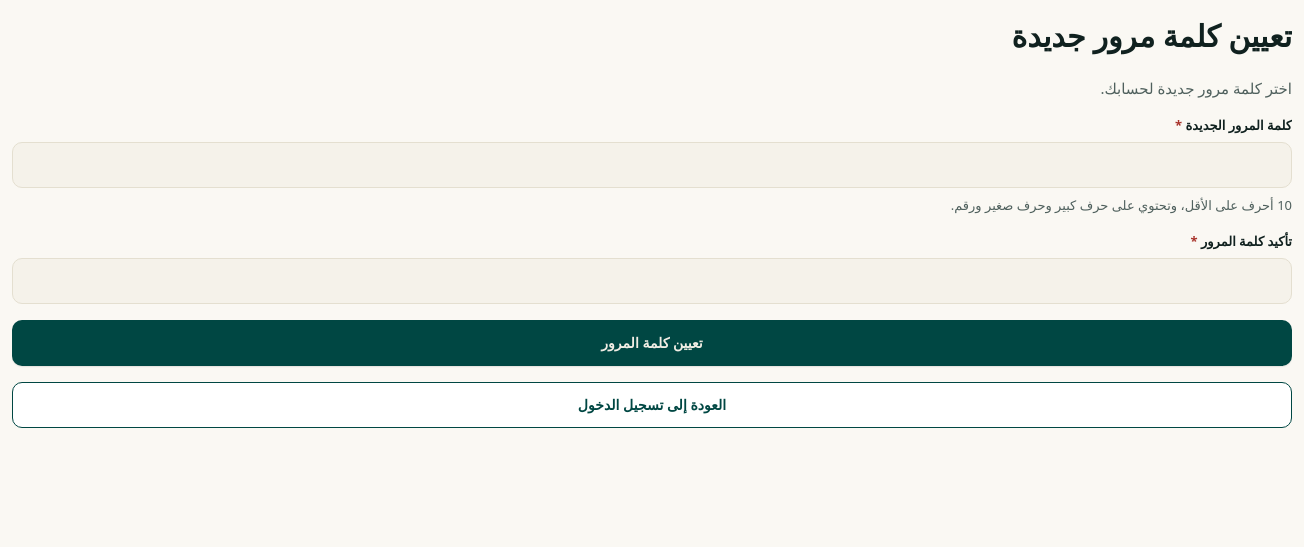
Test: ResetPasswordForm › maps a 400 invalid token to the Arabic message with a link to request a new one
Expected: the heading "تعيين كلمة مرور جديدة" is shown, [1012,15,1292,56]
In the password field labelled "كلمة المرور الجديدة *": point(652, 165) [12,142,1292,188], type "Abcdefgh1x"
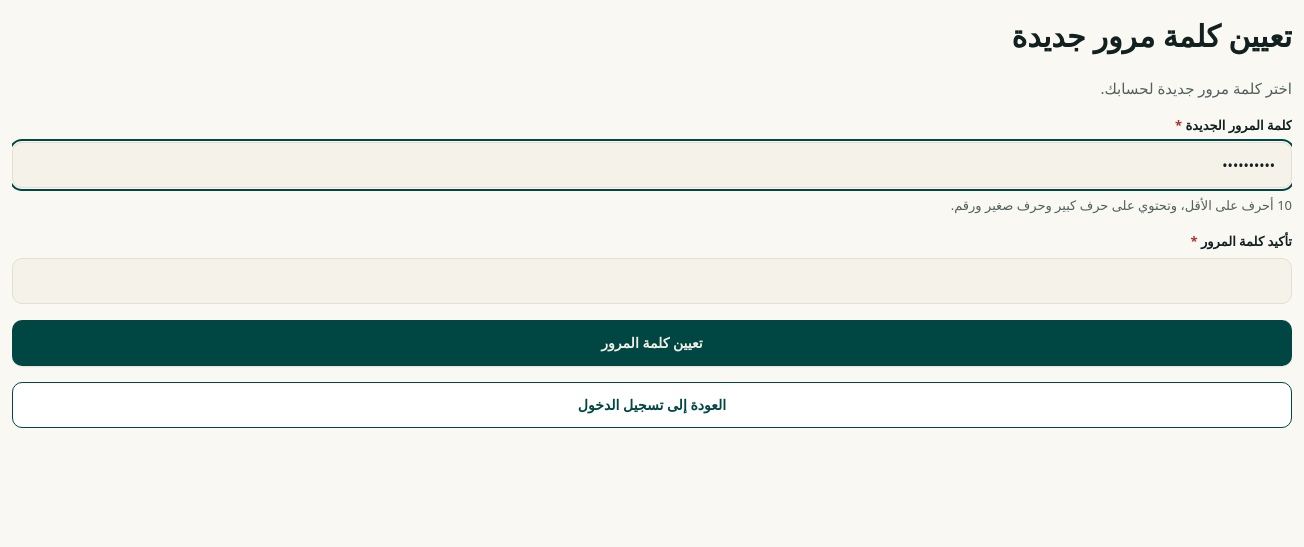
In the password field labelled "تأكيد كلمة المرور *": point(652, 281) [12,258,1292,304], type "Abcdefgh1x"
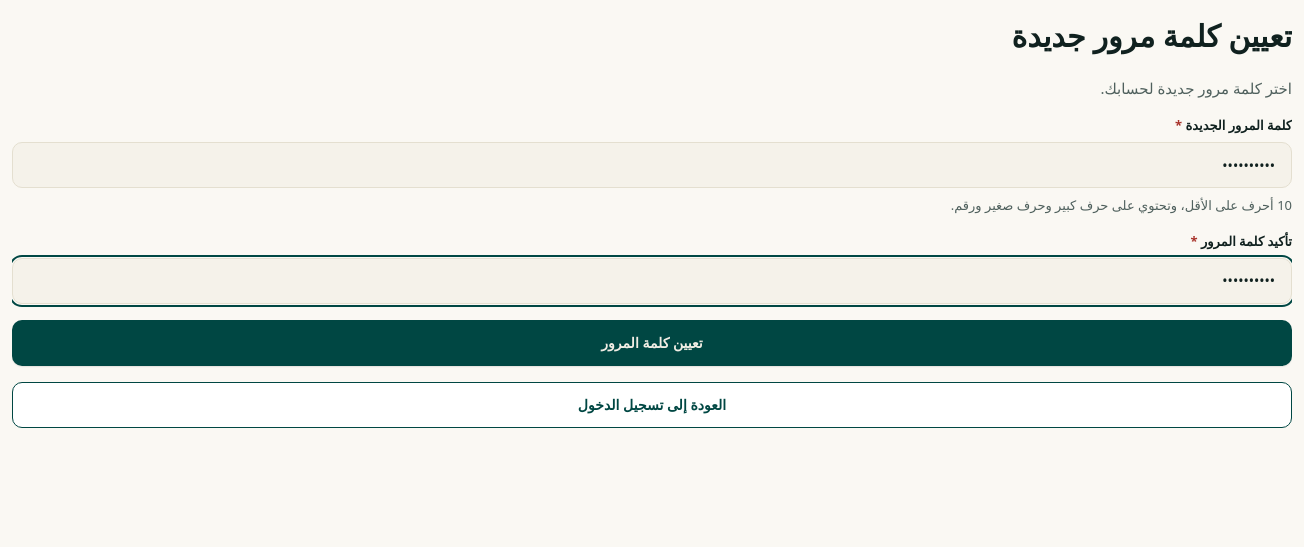
Click the button "تعيين كلمة المرور": point(652, 343) [12,320,1292,366]
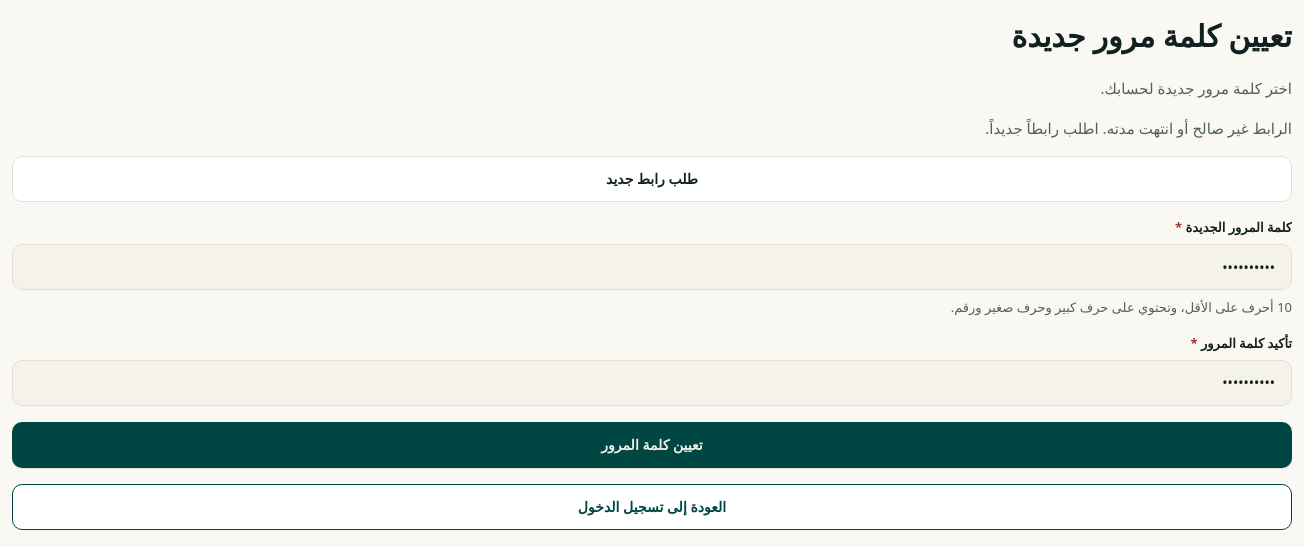
Now the message reads "الرابط غير صالح أو انتهت مدته. اطلب رابطاً جديداً.", box [985,118,1292,138]
